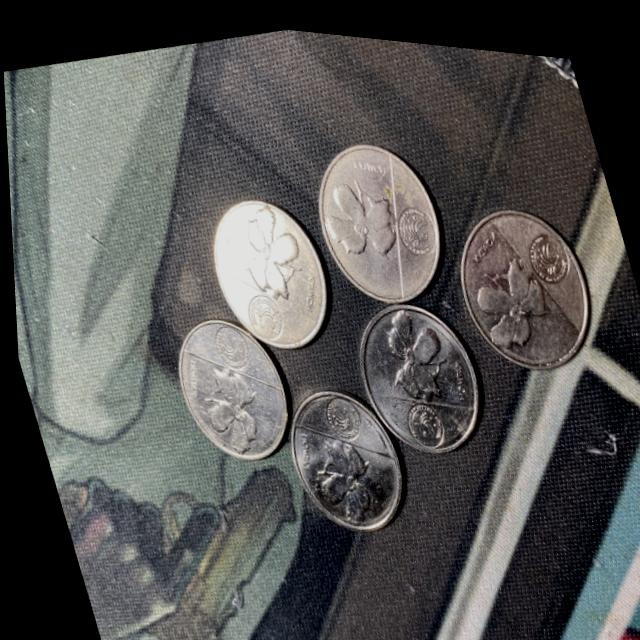25Cent_New_Back: (290, 128, 436, 303), (345, 262, 490, 436), (168, 327, 301, 488), (276, 400, 405, 558), (458, 226, 571, 367)
